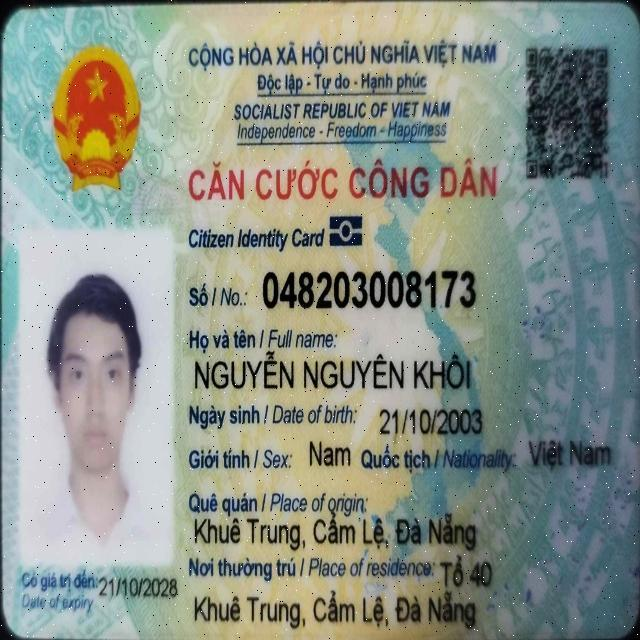current_place: (190, 589, 478, 633), (441, 552, 493, 589)
dob: (375, 402, 485, 441)
expire_date: (98, 575, 178, 602)
gender: (305, 437, 350, 470)
id: (260, 266, 477, 314)
name: (191, 350, 472, 396)
nationality: (525, 438, 613, 475)
origin_place: (191, 512, 478, 553)
qr: (524, 42, 614, 185)
